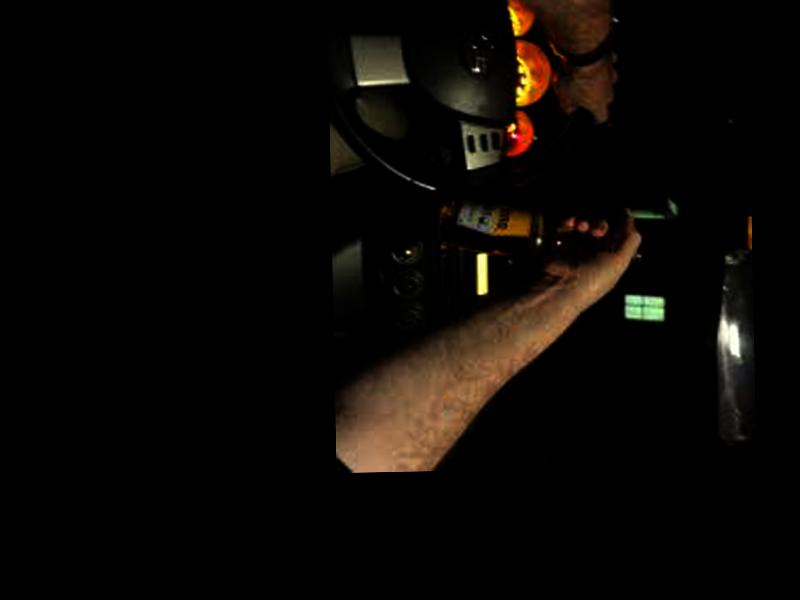Beer: (438, 186, 641, 270)
